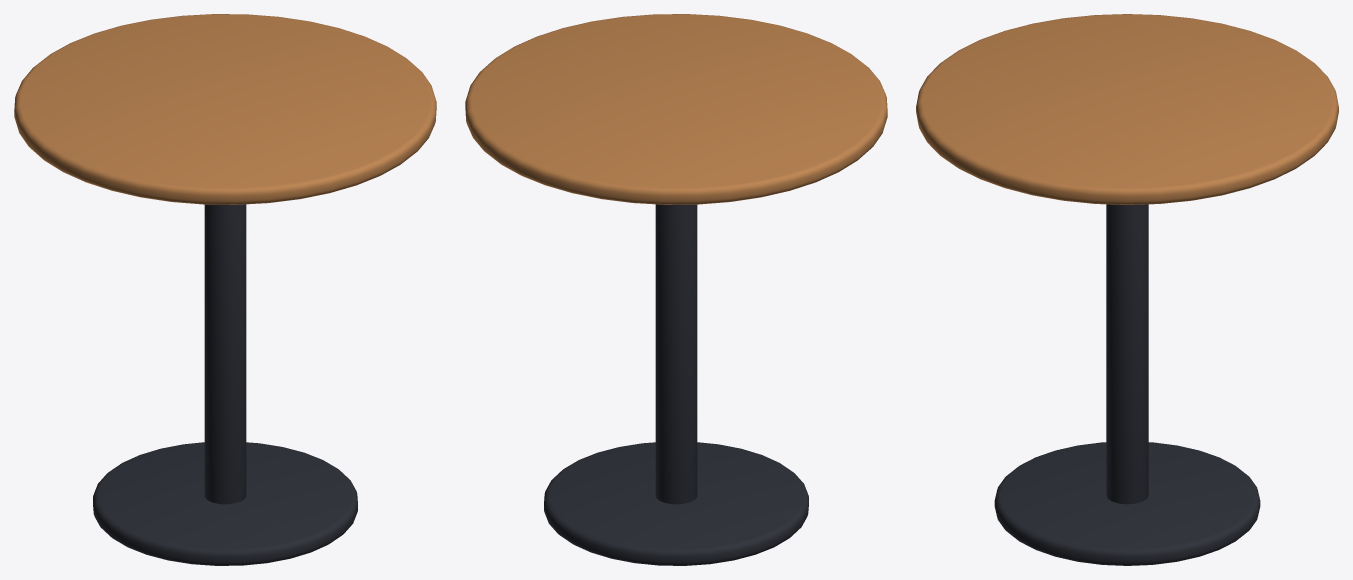
The model's file is mesinha.glb.
3 views of the same model, side by side, from view 1: azimuth 30°, elevation 25°; view 2: azimuth 150°, elevation 25°; view 3: azimuth 270°, elevation 25° (orthographic).
Parts seen in each view (by area): view 1: Cylinder, Cylinder.002, Cylinder.001; view 2: Cylinder, Cylinder.002, Cylinder.001; view 3: Cylinder, Cylinder.002, Cylinder.001.
Boxes of the visible parts, box(x1,y1,x2,y2) form: Cylinder: box(14, 14, 436, 204); Cylinder.002: box(93, 442, 357, 565); Cylinder.001: box(204, 204, 246, 504); Cylinder: box(465, 14, 887, 204); Cylinder.002: box(544, 442, 808, 565); Cylinder.001: box(655, 204, 697, 504); Cylinder: box(916, 14, 1338, 204); Cylinder.002: box(994, 442, 1260, 565); Cylinder.001: box(1106, 204, 1148, 504).
Size of the model in its own units: 0.7 by 0.75 by 0.7.
